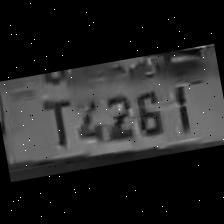1: (162, 76, 200, 136)
2: (96, 88, 135, 143)
4: (67, 90, 106, 146)
6: (127, 83, 168, 139)
T: (34, 90, 76, 148)
